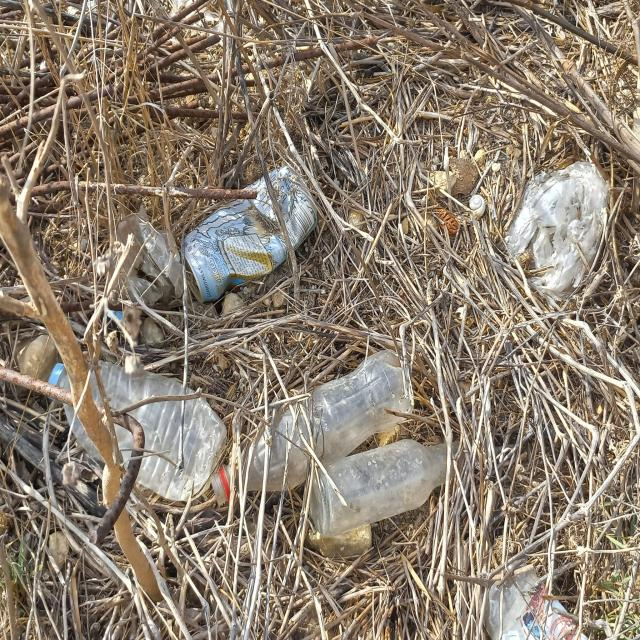Bottle: (210, 351, 413, 509), (47, 361, 226, 502), (306, 438, 468, 536), (478, 565, 589, 640)
Bottle cap: (107, 309, 123, 323)
Can: (179, 163, 319, 306)
Plastic bag - wrapper: (508, 163, 609, 293), (107, 203, 186, 305)
